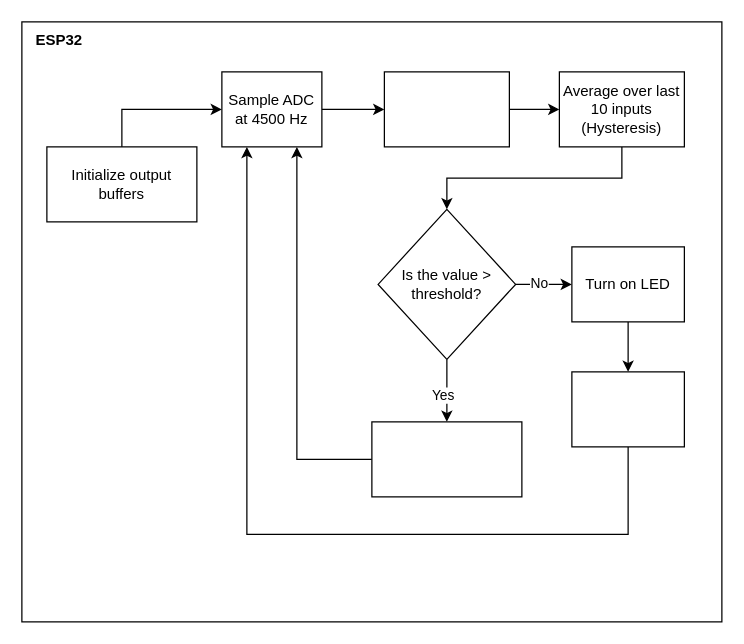
Some shapes in this 744 by 644 pixel diagram are drawn without their labels. Each missing label, with the centre of its shape:
Apply difference equation: the point at 446,109
Send SMS alert: the point at 627,409
Turn off LED: the point at 446,459
